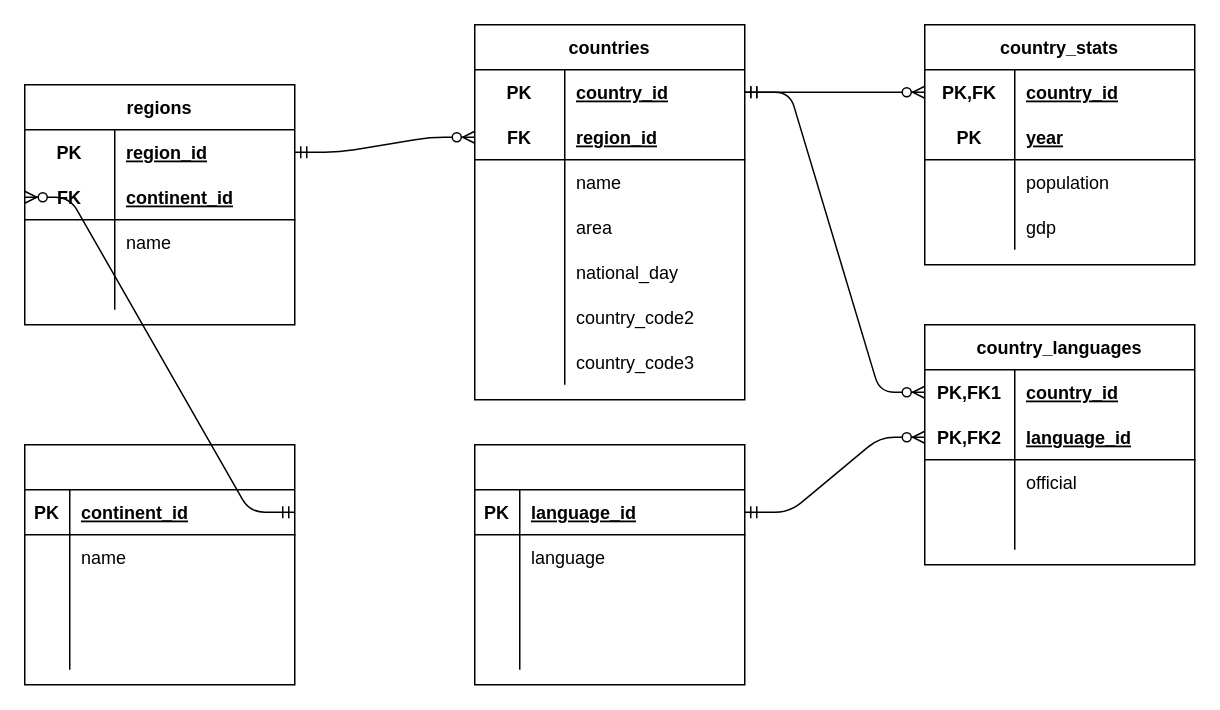
This 1220x710 diagram has some shape labels left out. Each missing label, with the box of its shape:
continents: (23, 443, 295, 685)
languages: (473, 443, 745, 685)
